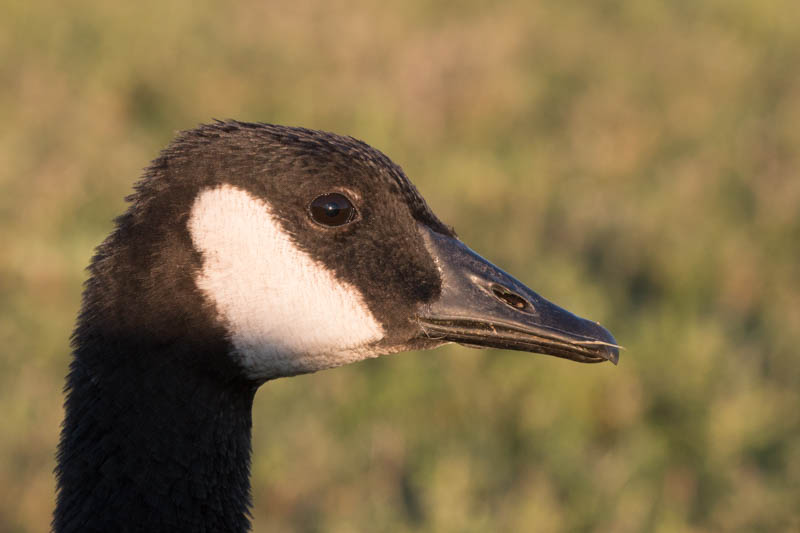goose-head: (81, 118, 621, 385)
